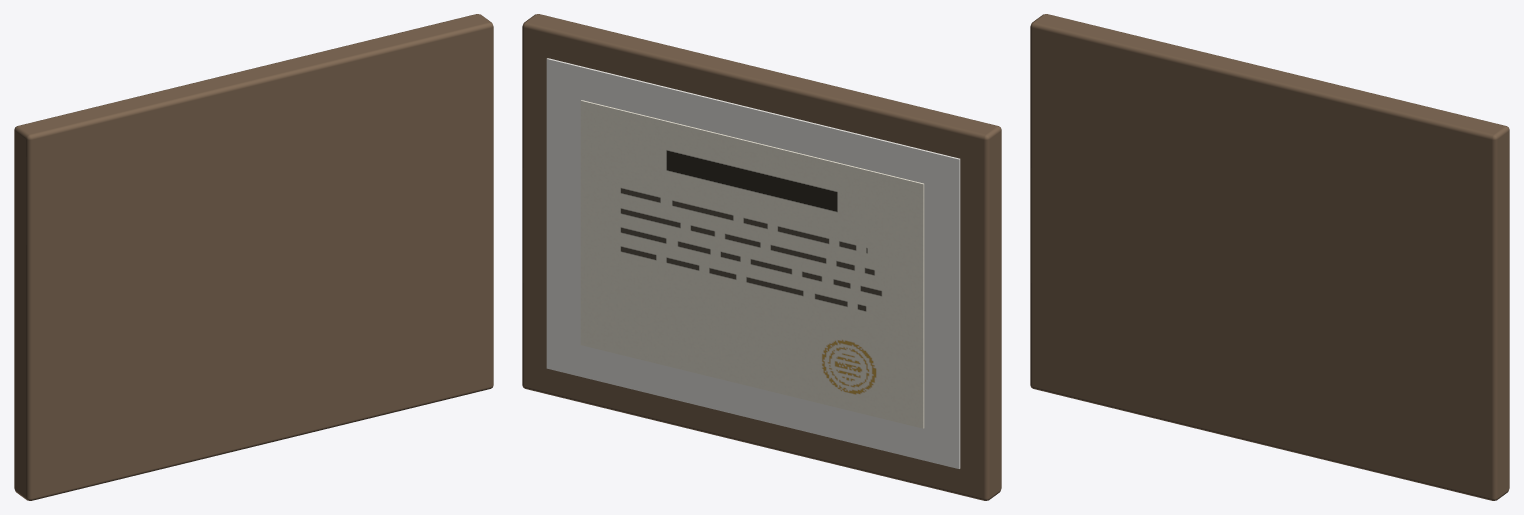
The model's file is consulta.titulo.fbx.
The picture shows the model from 3 angles, left to right: view 1: azimuth 30°, elevation 25°; view 2: azimuth 150°, elevation 25°; view 3: azimuth 330°, elevation 25°; orthographic projection.
Parts seen in each view (by area): view 1: Marco; view 2: Diploma, Marco, Paspartu; view 3: Marco.
Part boxes in pixels (box(x1,y1,x2,y2)): Marco: box(14, 14, 493, 500); Diploma: box(580, 100, 924, 428); Marco: box(522, 14, 1001, 500); Paspartu: box(546, 58, 960, 468); Marco: box(1030, 14, 1509, 500).
Size of the model in its own units: 0.6 by 0.45 by 0.0395.
Materials: 3 (1 with a texture image).
